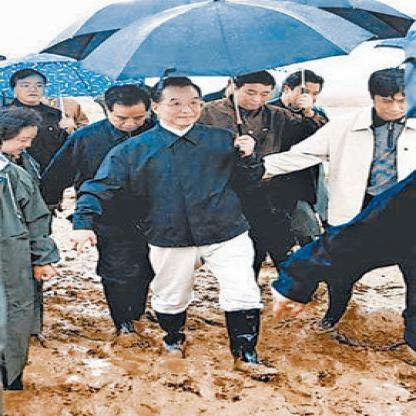Umbrella: (80, 0, 378, 97), (31, 0, 414, 71), (2, 49, 163, 107)
